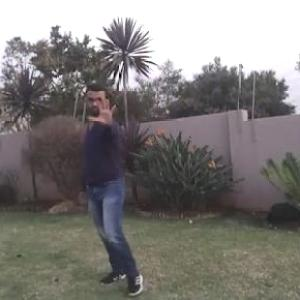follow_hand: (86, 89, 119, 126)
